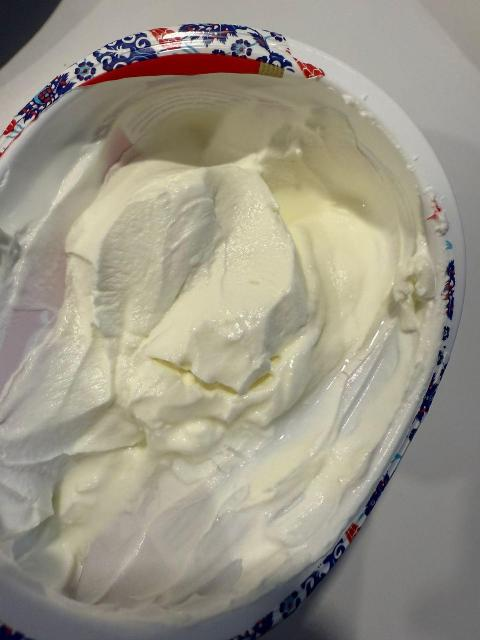Organik: (48, 176, 347, 503)
